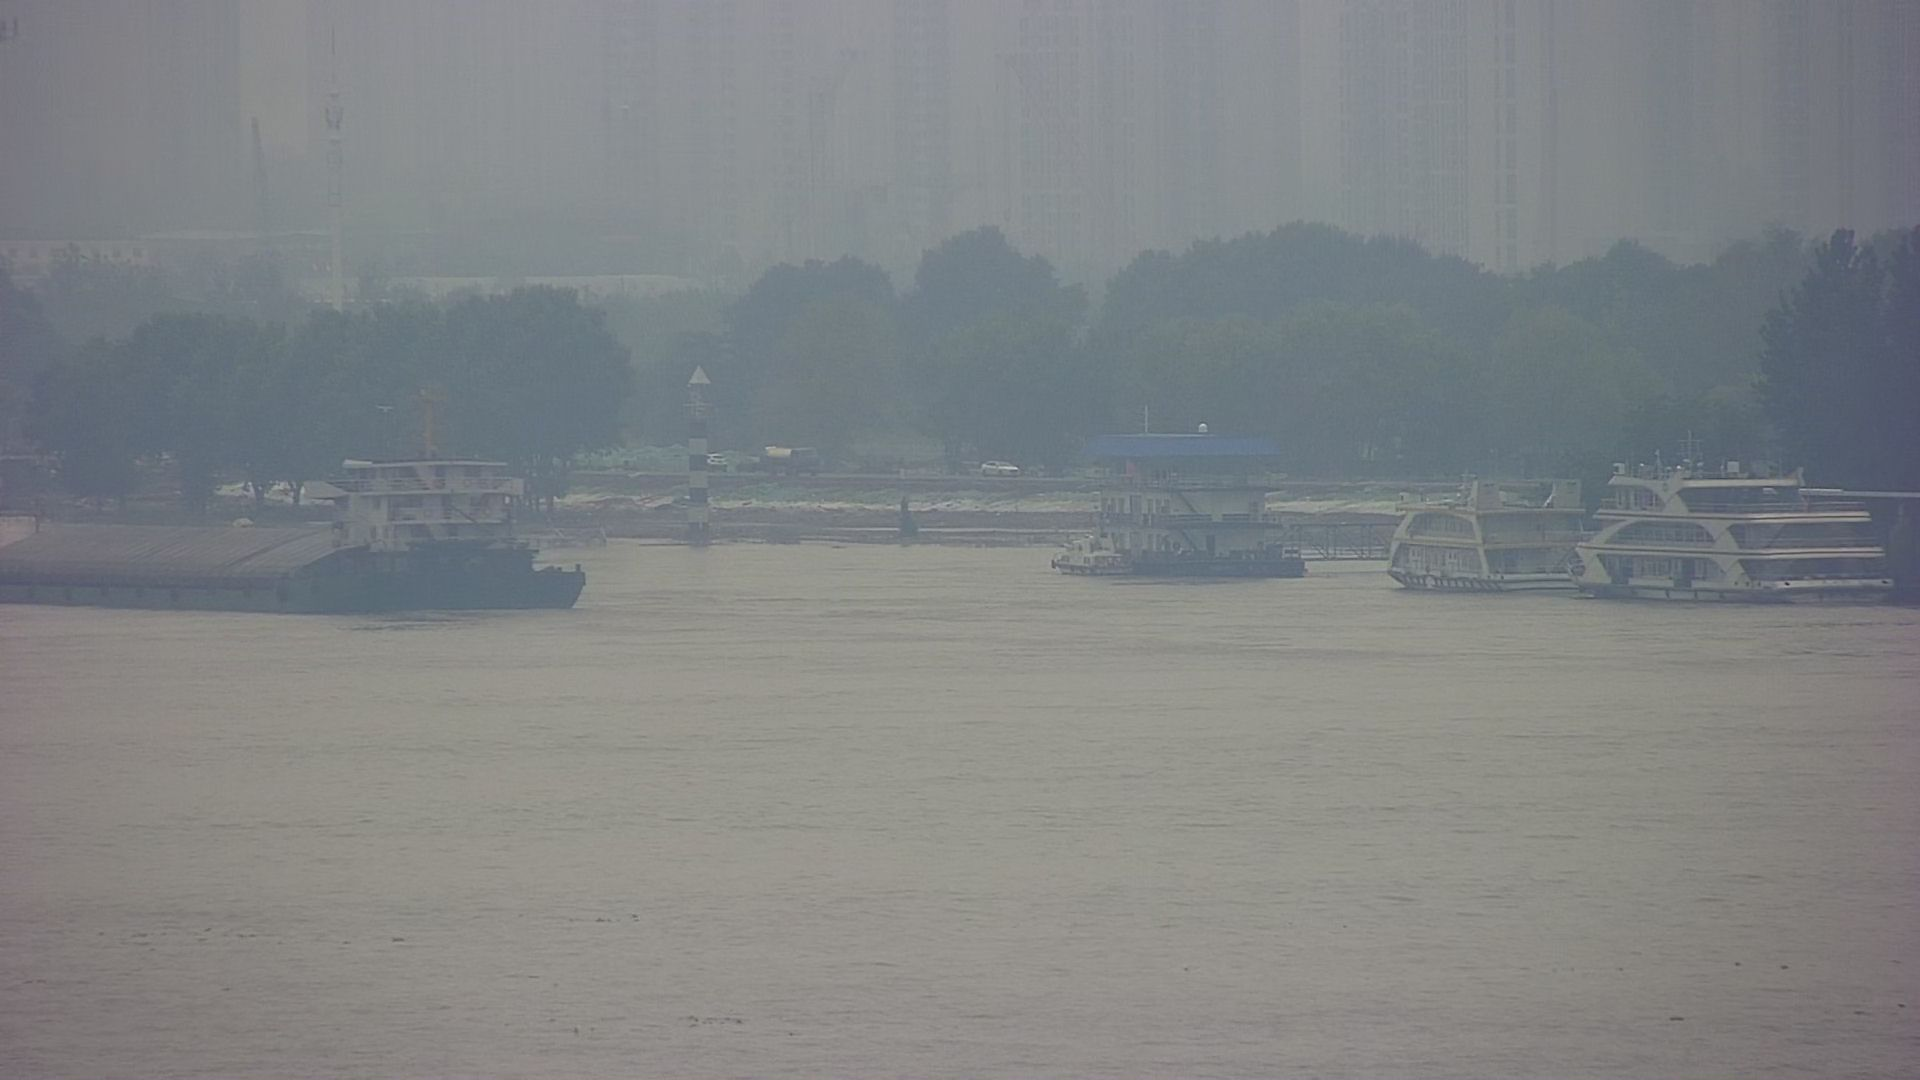ship: (1, 380, 603, 628), (1563, 415, 1909, 618), (1039, 382, 1325, 593), (1371, 455, 1596, 597)
